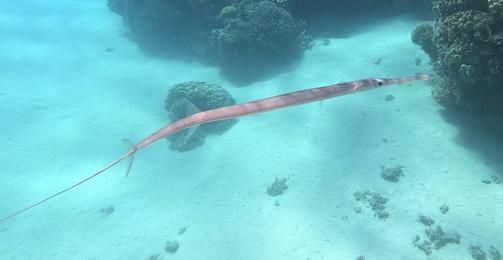Fistularia commersonii: (68, 32, 453, 188)
